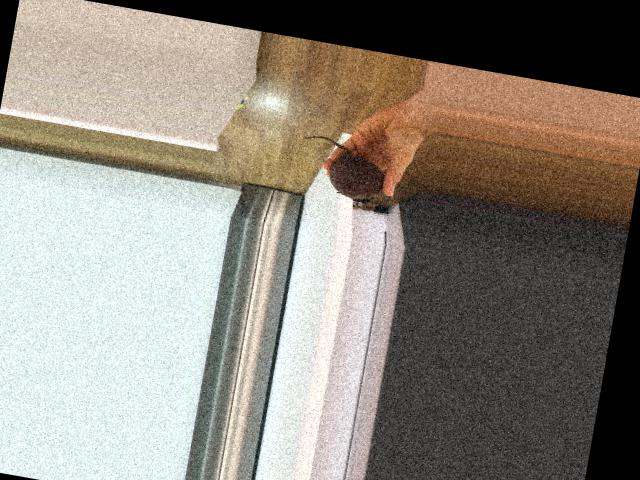beet: (294, 133, 389, 205)
